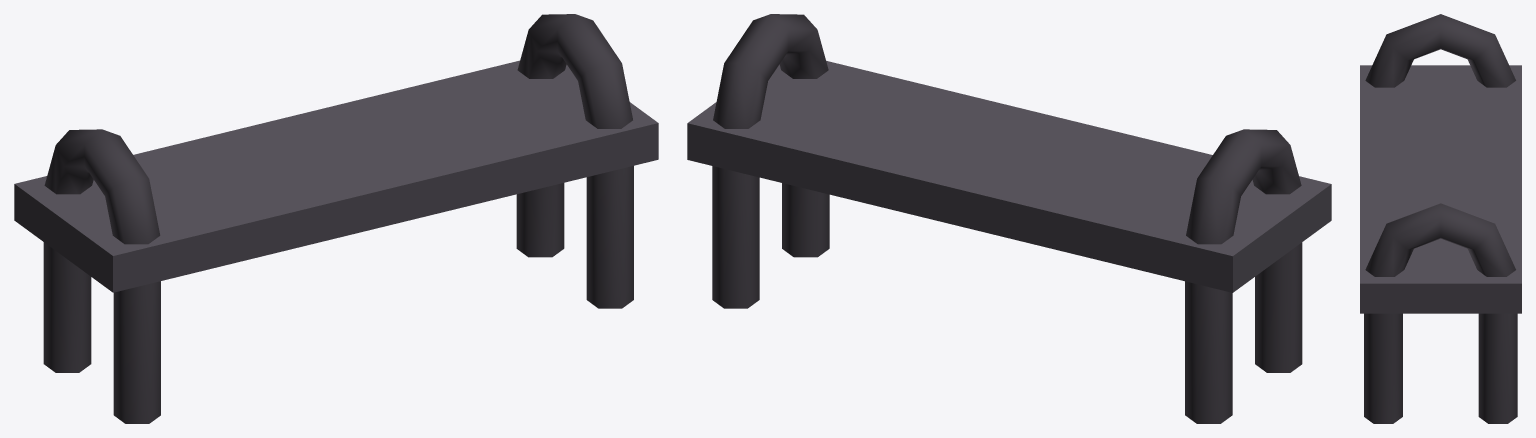
The model's file is BusStop_02.fbx.
3 renders of one model, left to right at view 1: azimuth 30°, elevation 25°; view 2: azimuth 150°, elevation 25°; view 3: azimuth 270°, elevation 25°, orthographic. The views are drawn at different scales.
Parts seen in each view (by area): view 1: BusStop_01; view 2: BusStop_01; view 3: BusStop_01.
Boxes of the visible parts, left/top/right/bottom form: BusStop_01: left=14, top=14, right=658, bottom=423; BusStop_01: left=687, top=14, right=1331, bottom=423; BusStop_01: left=1360, top=14, right=1521, bottom=423.
Size of the model in its own units: 227 by 103 by 71.01.
